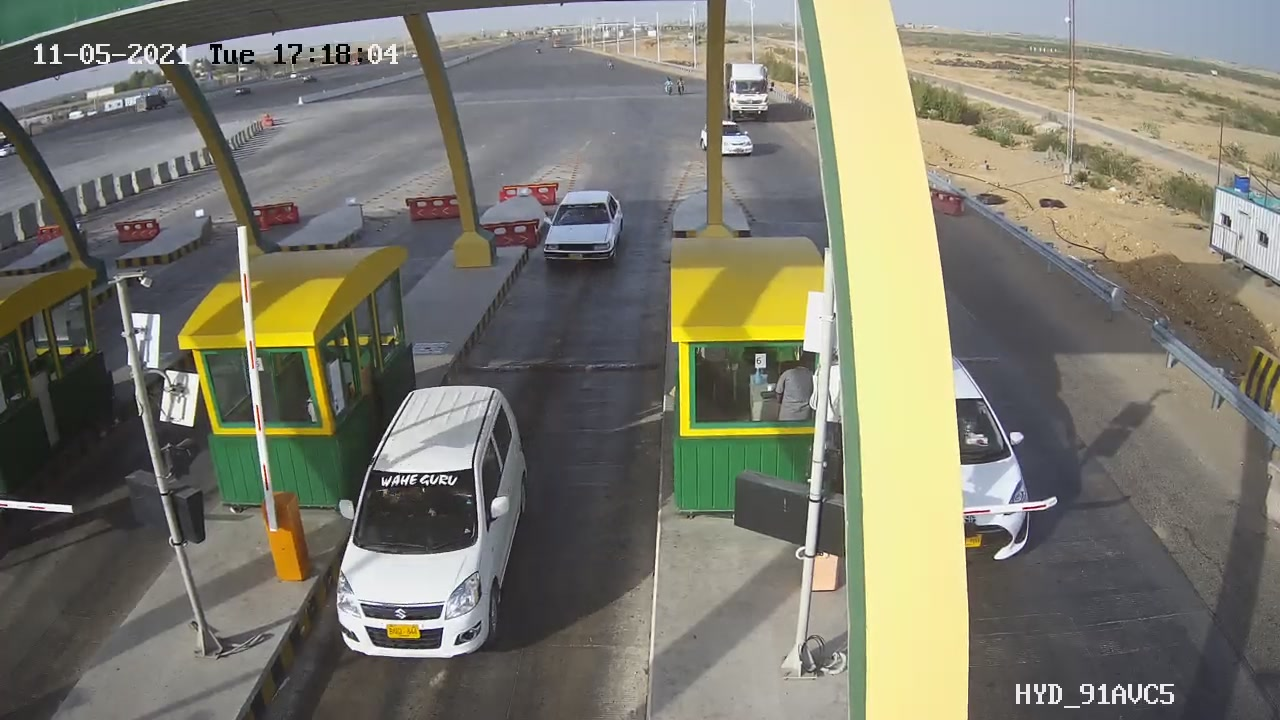F1: (530, 179, 639, 277)
